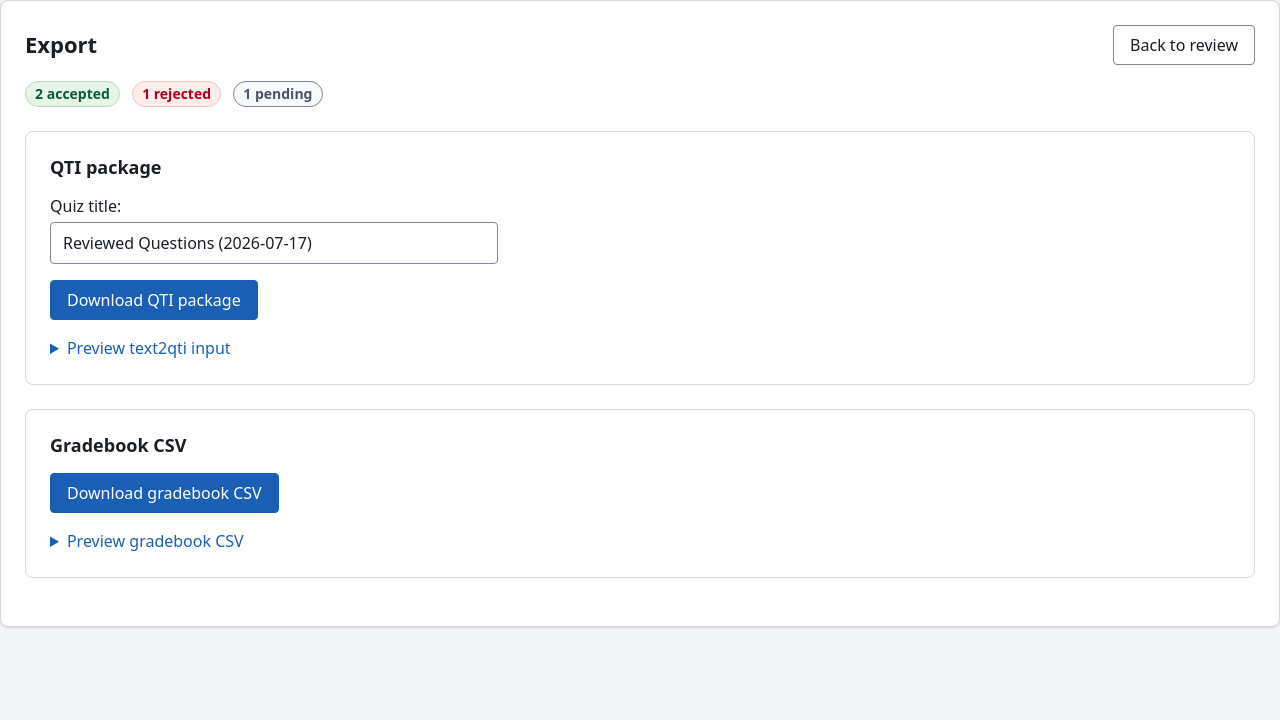
Export: downloading › shows an error message if QTI generation fails
The width and height of the screenshot is (1280, 720).
Click the button "Download QTI package".
click(154, 300)  # box [50,280,258,320]
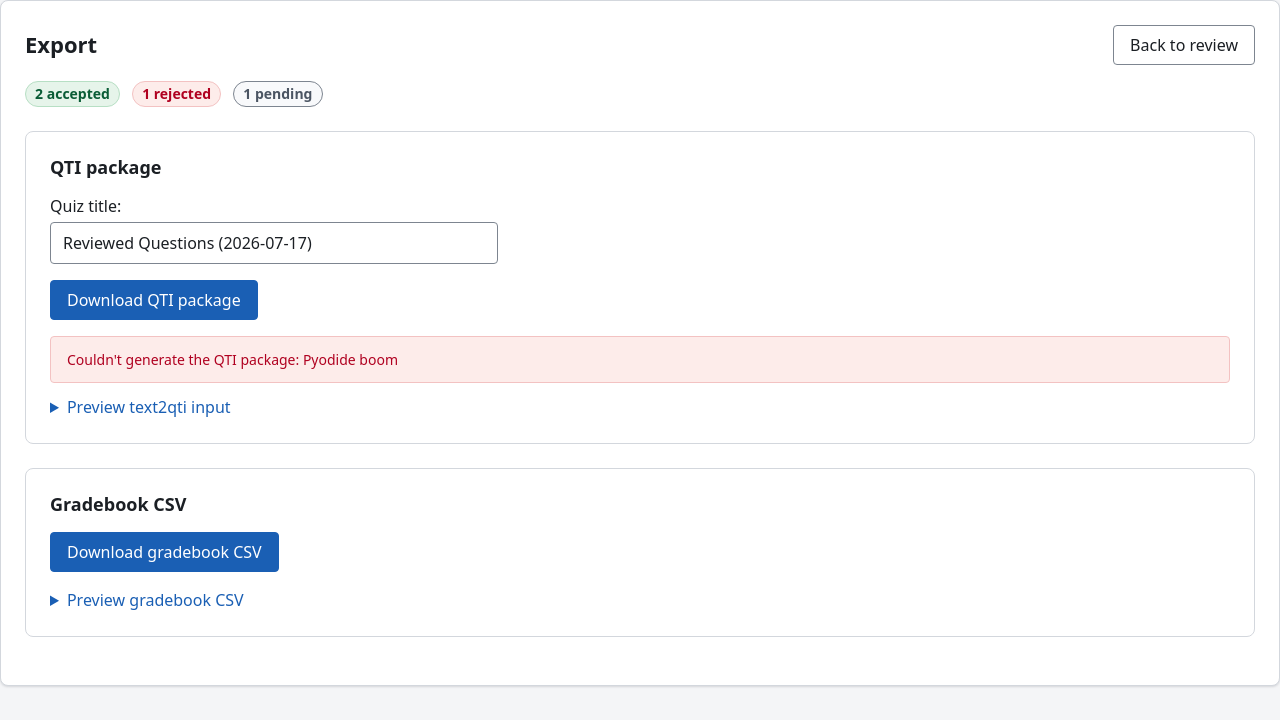
Expected: the text "Couldn't generate the QTI package: Pyodide boom" is shown, [50,336,1230,383]
